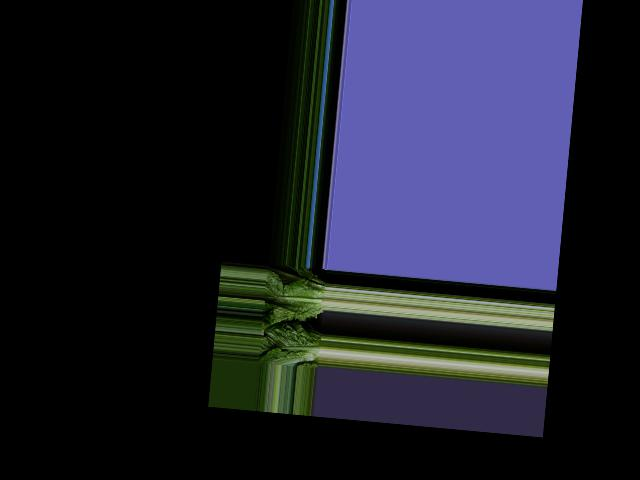lettuce: (261, 321, 322, 365)
